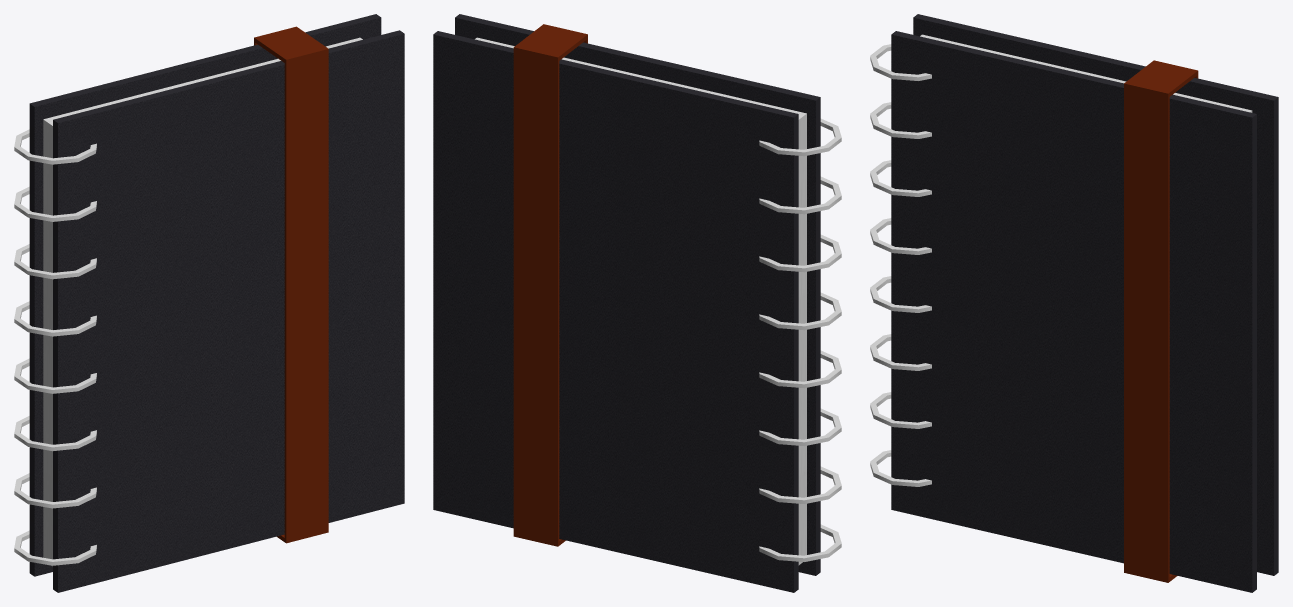
The model's file is Diary.FBX.
3 renders of one model, left to right at view 1: azimuth 30°, elevation 25°; view 2: azimuth 150°, elevation 25°; view 3: azimuth 330°, elevation 25°, orthographic.
Parts seen in each view (by area): view 1: Diary; view 2: Diary; view 3: Diary.
Boxes of the visible parts, x1,y1,x2,y2 form: Diary: (14,14,404,592); Diary: (433,14,841,592); Diary: (870,14,1278,592).
Bounding box in the file's own units: 19.65 × 24.04 × 3.88.
Materials: 4 (3 with a texture image).
